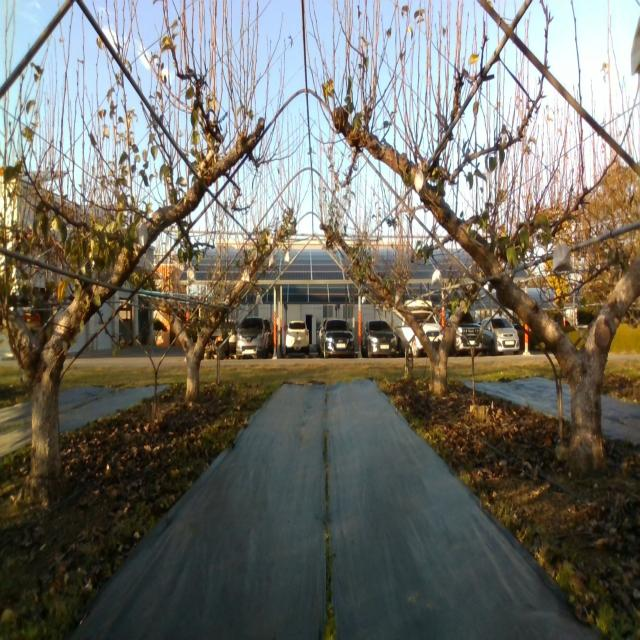pearbags: (551, 244, 572, 273), (432, 270, 442, 288)
